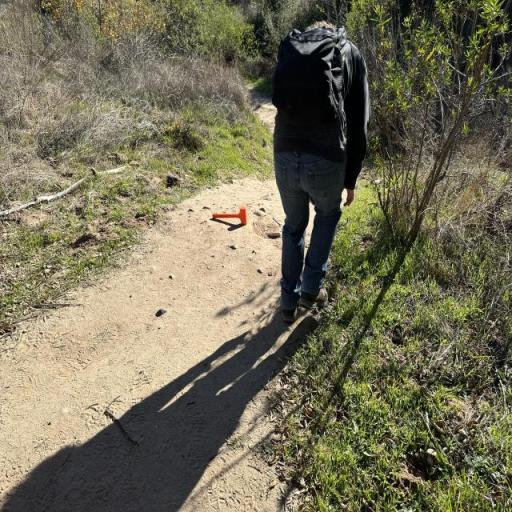mallet: (212, 206, 247, 225)
